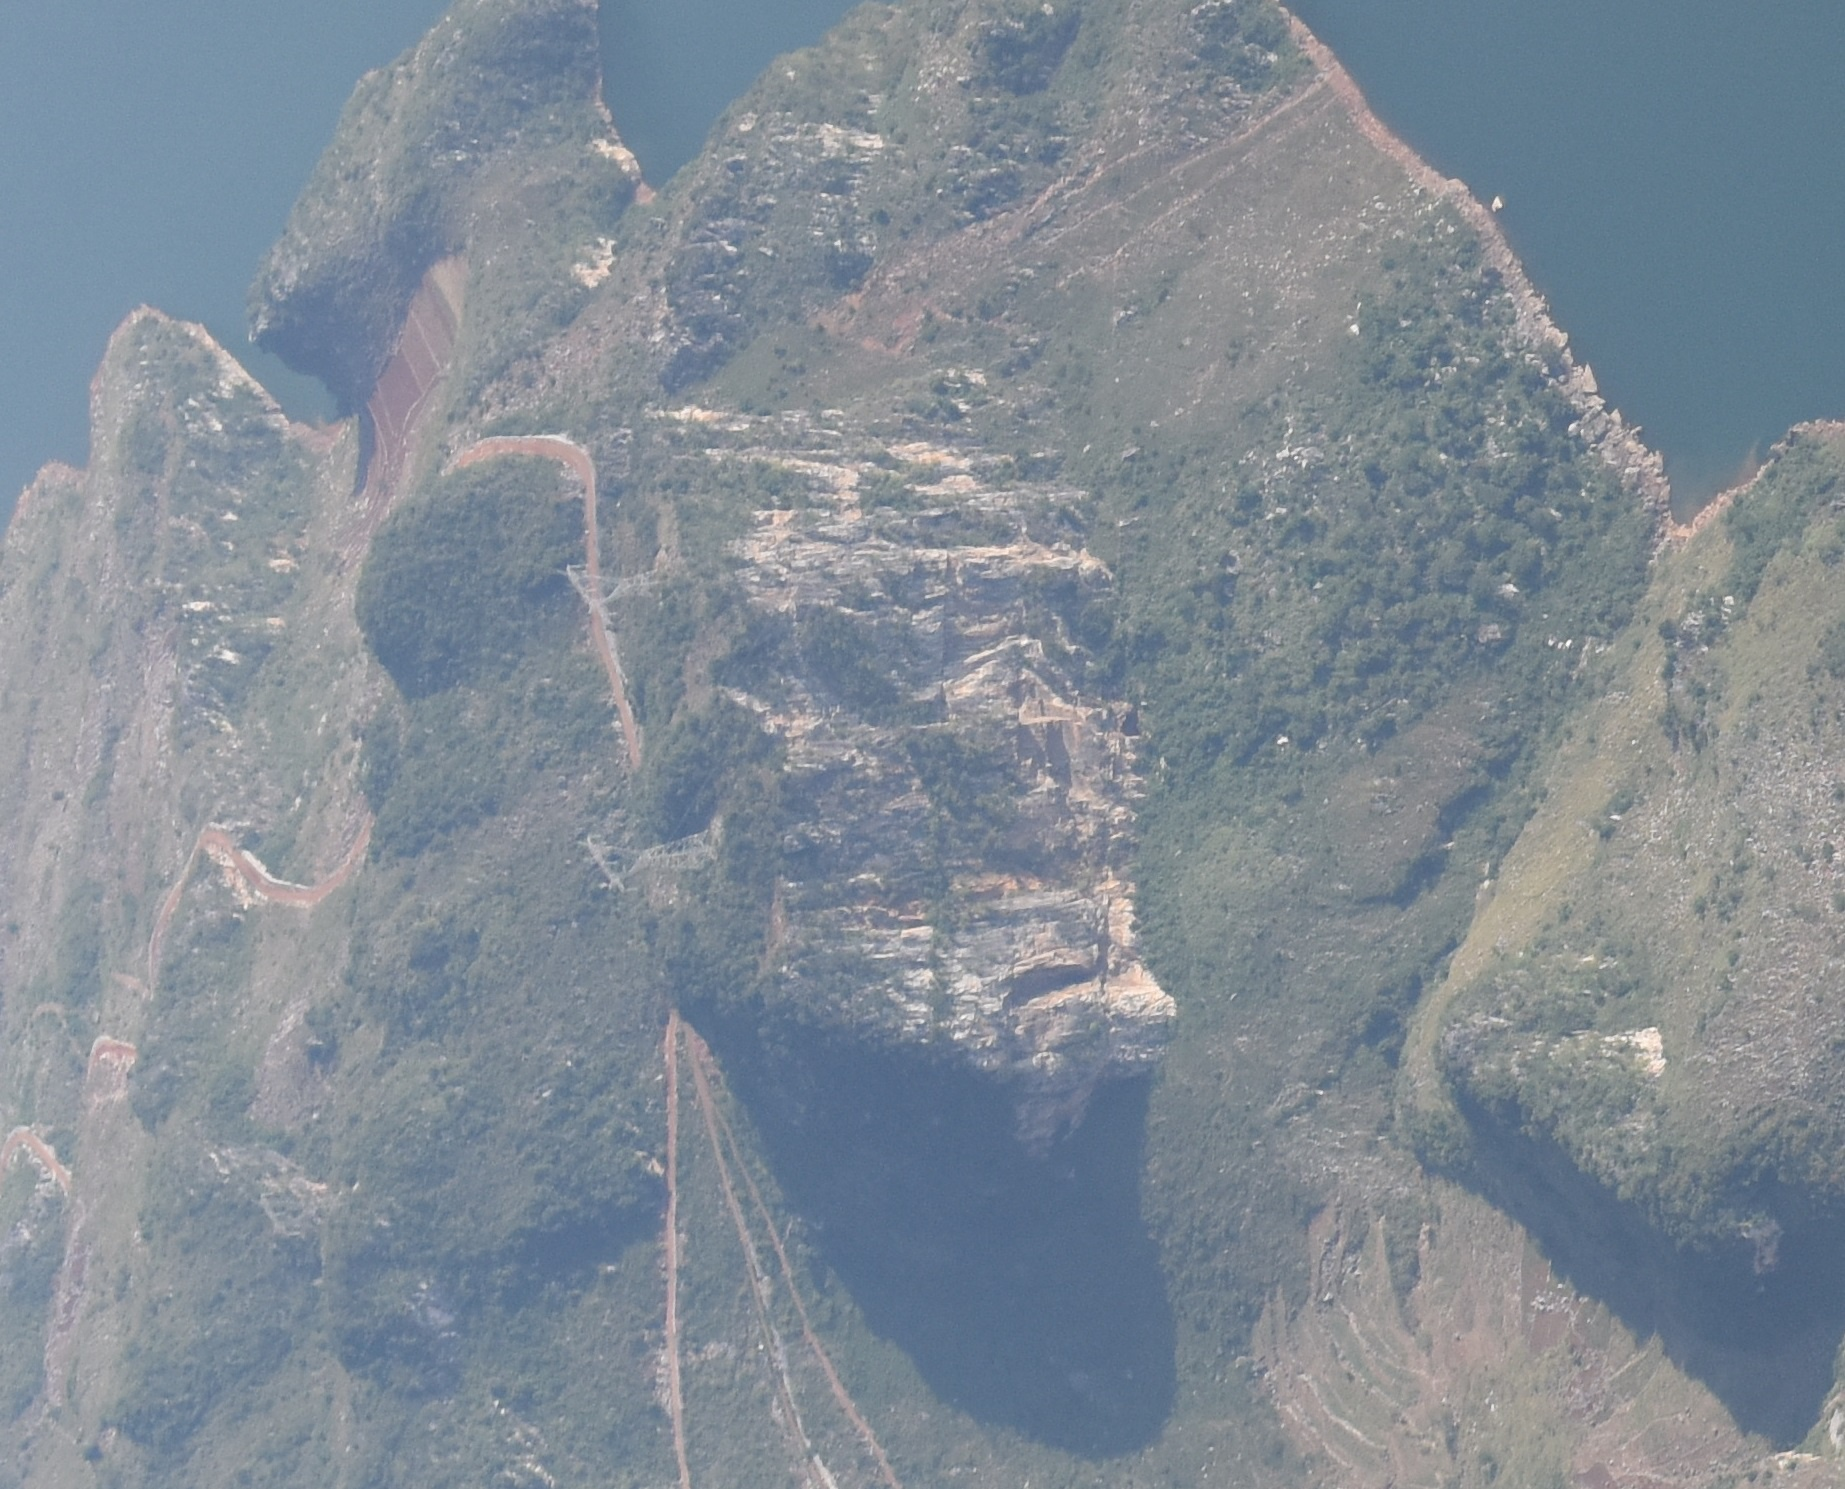cable-tower: (571, 825, 717, 898), (561, 558, 682, 617)
